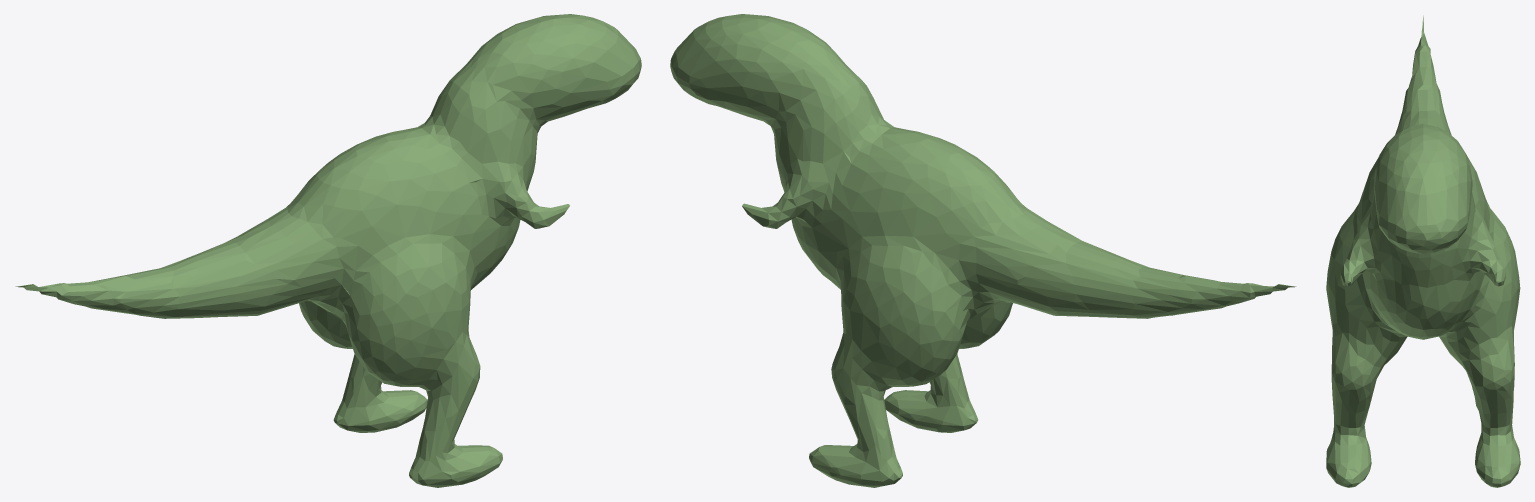
File: NEW_RECOVERY_010_LOD0.fbx
The picture shows the model from 3 angles, left to right: view 1: azimuth 30°, elevation 25°; view 2: azimuth 150°, elevation 25°; view 3: azimuth 270°, elevation 25°; orthographic projection.
Visible parts, largest first — view 1: Generalized dinosaur solid; view 2: Generalized dinosaur solid; view 3: Generalized dinosaur solid.
Boxes of the visible parts, x1,y1,x2,y2 form: Generalized dinosaur solid: [15, 14, 641, 487]; Generalized dinosaur solid: [670, 14, 1296, 487]; Generalized dinosaur solid: [1326, 15, 1520, 487].
Bounding box in the file's own units: 447 × 121 × 276.
